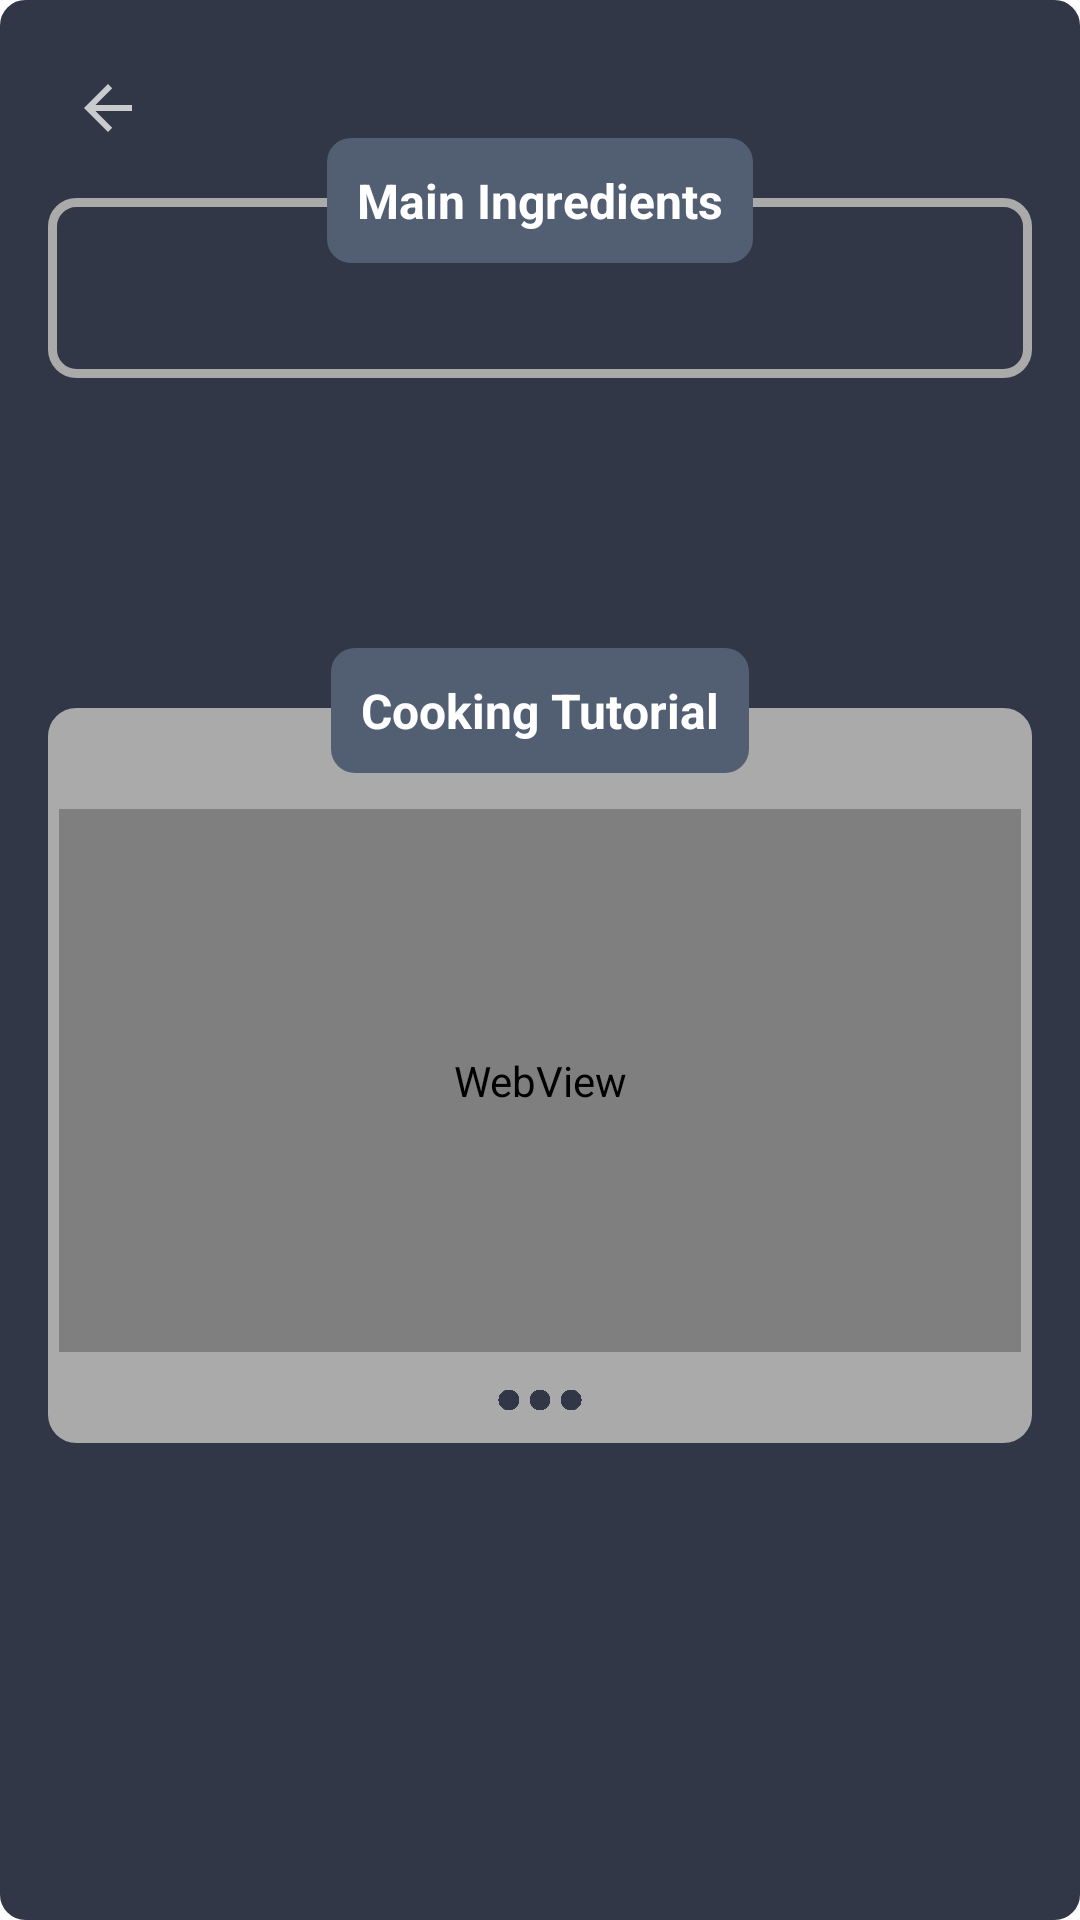

Icons on this 1080w x 1920h Android screen, each with the point to tap as point (x, y):
arrow back: point (108, 108)
Dots Icon: point (540, 1400)
